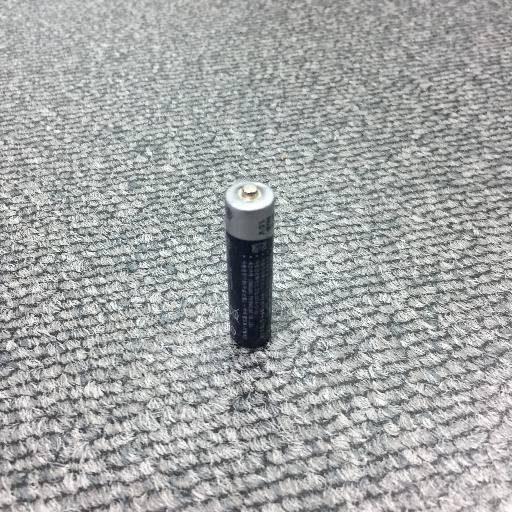Battery_0: (217, 168, 295, 360)
